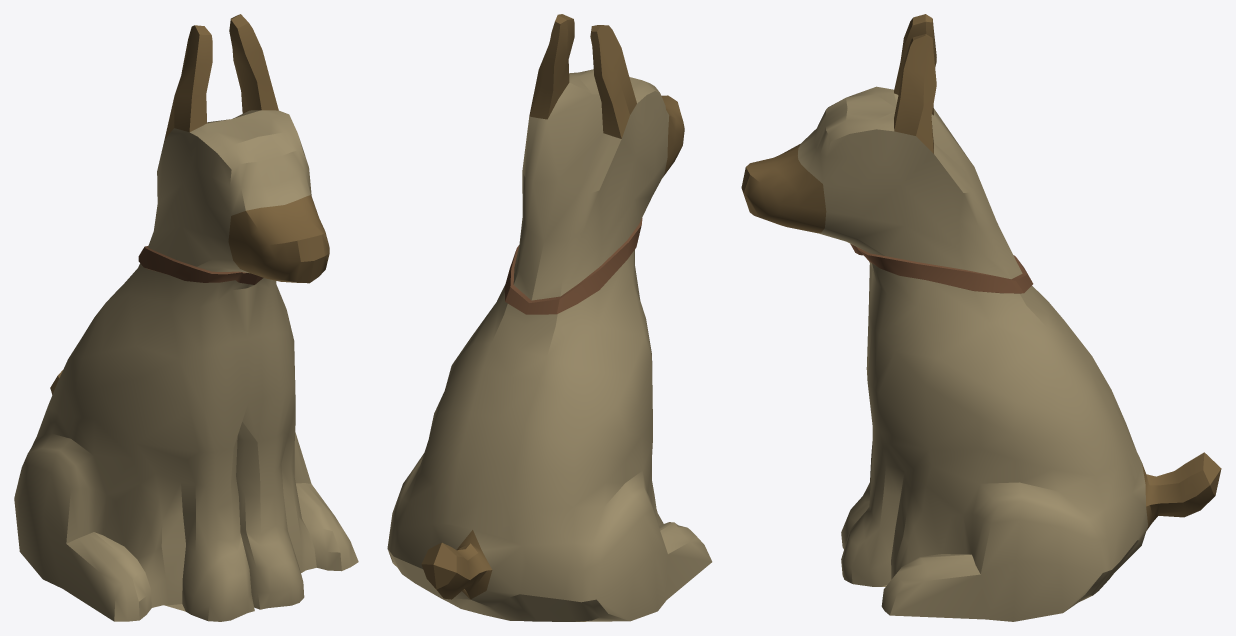
The model's file is Dog.fbx.
3 views of the same model, side by side, from view 1: azimuth 30°, elevation 25°; view 2: azimuth 150°, elevation 25°; view 3: azimuth 270°, elevation 25° (orthographic). The views are drawn at different scales.
Parts seen in each view (by area): view 1: Dog; view 2: Dog; view 3: Dog.
Boxes of the visible parts, left/top/right/bottom form: Dog: left=14, top=14, right=358, bottom=621; Dog: left=387, top=14, right=712, bottom=621; Dog: left=741, top=14, right=1221, bottom=621.
Size of the model in its own units: 2.68 by 5.6 by 4.51.
1 material, 1 textured.
